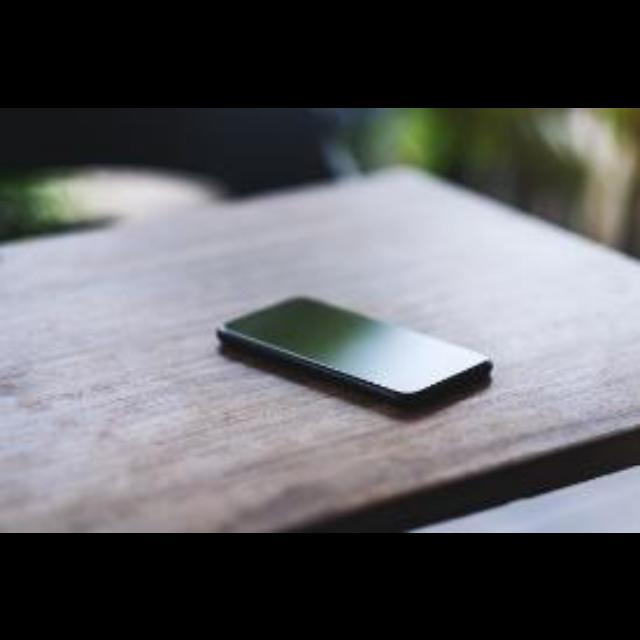Phone: (215, 294, 510, 432)
